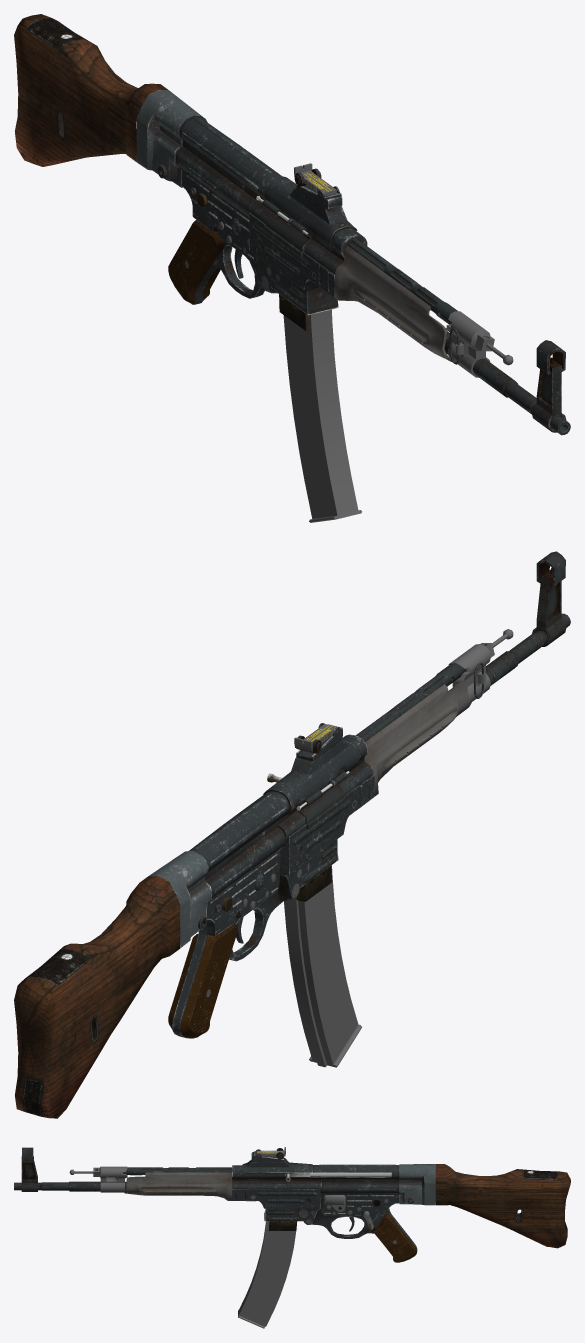
The picture shows the model from 3 angles, top to bottom: view 1: azimuth 30°, elevation 25°; view 2: azimuth 150°, elevation 25°; view 3: azimuth 270°, elevation 25°; orthographic projection. The views are drawn at different scales.
Parts seen in each view (by area): view 1: Body_09___Default, Body_03___Default, Magazine, Body_07___Default, Body_08___Default; view 2: Body_09___Default, Body_03___Default, Magazine, Body_08___Default, Body_07___Default; view 3: Body_09___Default, Body_03___Default, Body_07___Default, Magazine, Body_08___Default.
Part boxes in pixels (x1,y1,x2,y2): Body_09___Default: (136,90,367,315); Body_03___Default: (14,14,168,166); Magazine: (279,294,361,522); Body_07___Default: (197,163,513,377); Body_08___Default: (157,164,570,435); Body_09___Default: (148,723,374,1038); Body_03___Default: (14,876,180,1118); Magazine: (284,865,361,1067); Body_08___Default: (198,551,570,943); Body_07___Default: (222,629,513,912); Body_09___Default: (232,1149,435,1262); Body_03___Default: (435,1164,570,1248); Body_07___Default: (69,1147,380,1229); Magazine: (238,1221,297,1328); Body_08___Default: (14,1147,414,1231).
Bounding box in the file's own units: 0.0547 × 0.3319 × 0.94.
Materials: 4 (4 with a texture image).
